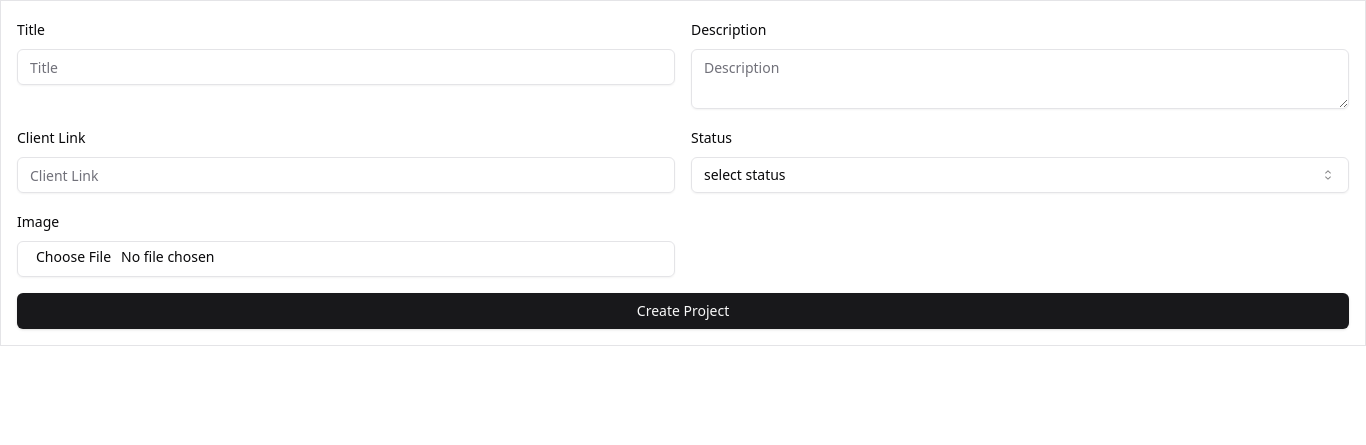
Test: CreateProjectForm › shows validation errors for empty fields
Click the button "Create Project" at (683, 311), box [17,293,1349,329]
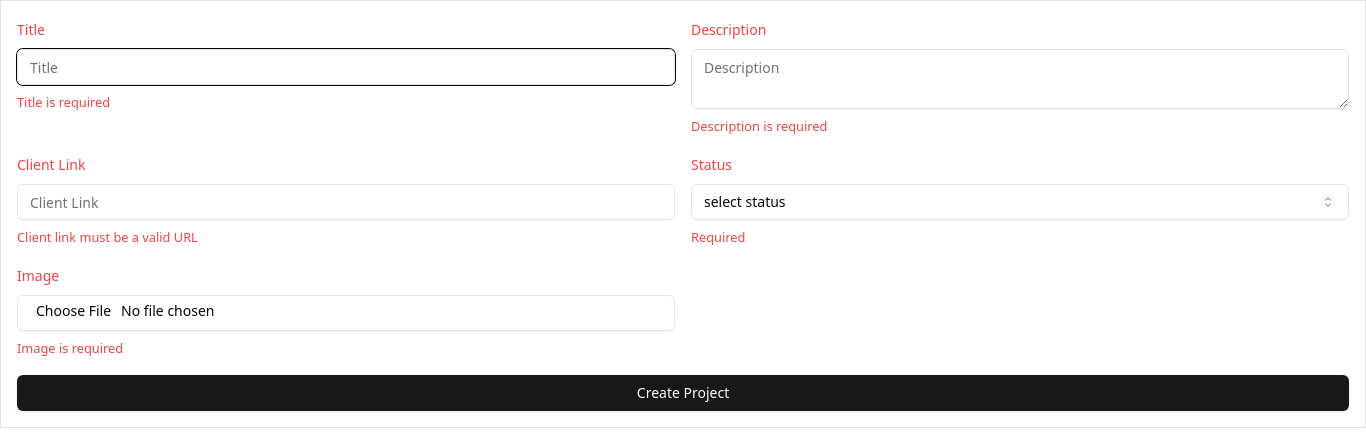
Now the text "Title is required" is shown, box [17,93,110,111]
Now the text "Description is required" is shown, box [691,117,827,135]
